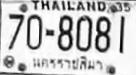0: (75, 15, 92, 51), (26, 13, 42, 49)
1: (118, 15, 125, 52)
7: (8, 13, 24, 49)
8: (94, 15, 110, 52), (57, 14, 72, 50)
NMA: (28, 55, 106, 72)
